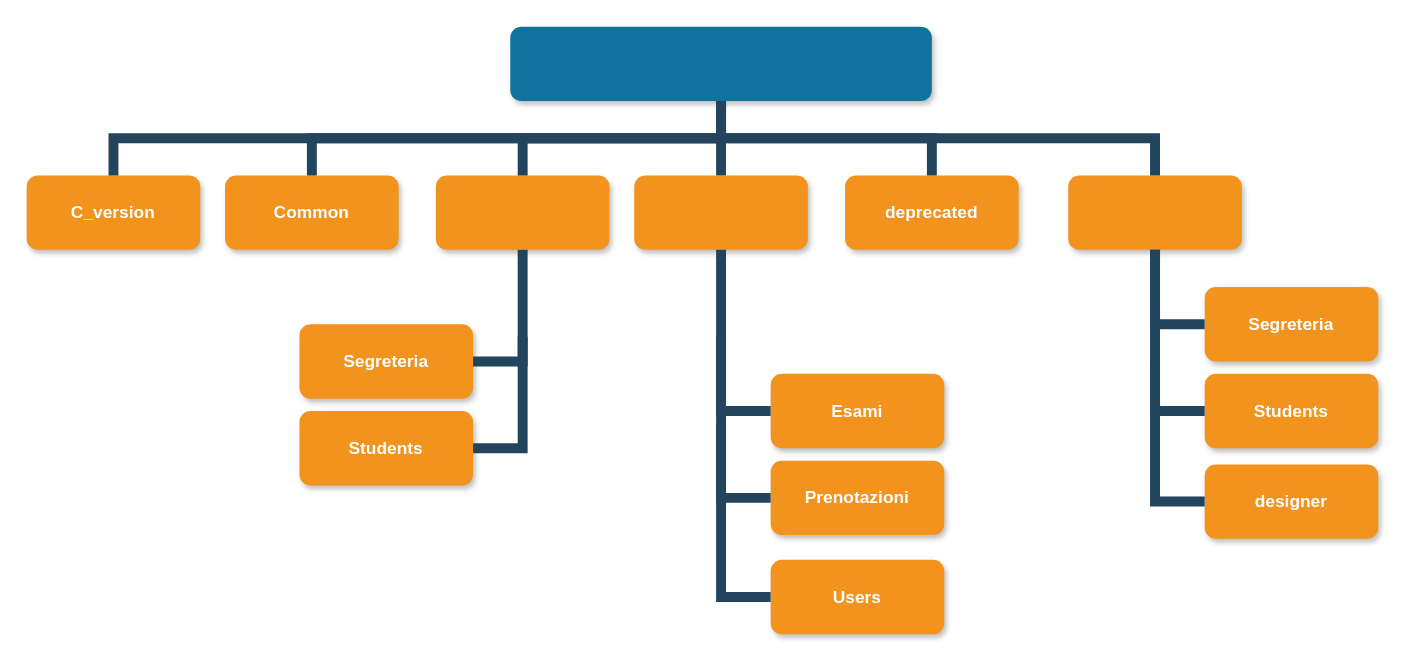
Some shapes in this 1406 by 663 pixel diagram are drawn without their labels. Each missing label, with the centre of its shape:
"db" goes at [722,214].
"gui" goes at [1156,214].
"logic" goes at [523,214].
"Reti Universita (root)" goes at [722,65].
